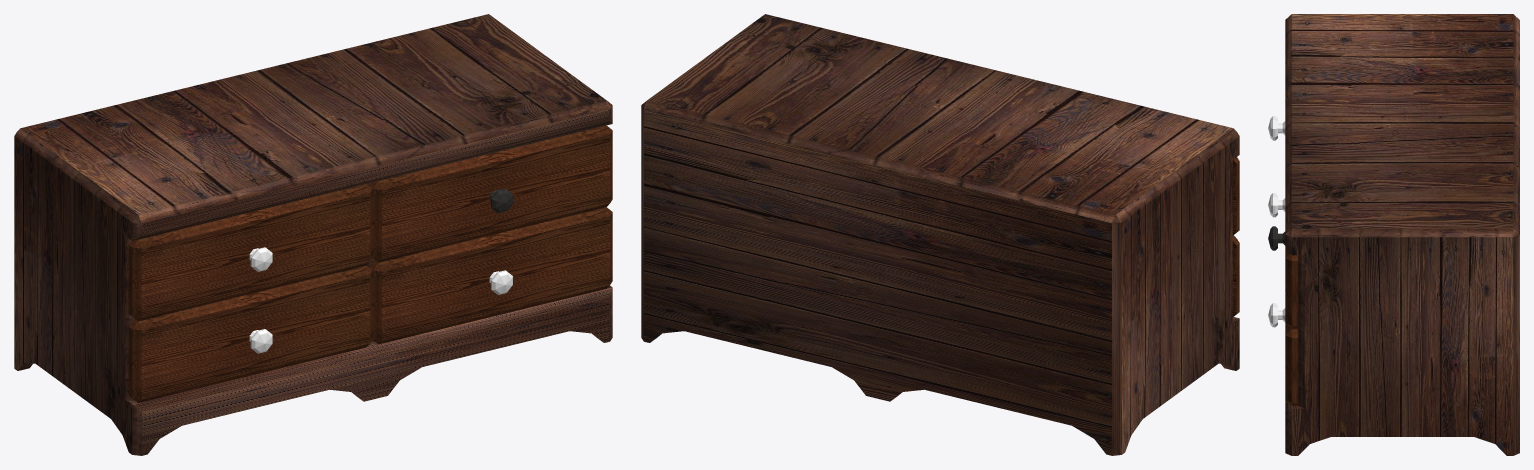
File: dresser_double.glb
3 views of the same model, side by side, from view 1: azimuth 30°, elevation 25°; view 2: azimuth 150°, elevation 25°; view 3: azimuth 270°, elevation 25° (orthographic). The views are drawn at different scales.
Parts seen in each view (by area): view 1: object4.004, object3.005, object5.001, object2.005, object1.006; view 2: object4.004, object3.005, object5.001; view 3: object4.004, object2.005, object1.006, object5.001, object3.005.
Part boxes in pixels (bbox=[...]): object4.004: bbox=[14, 14, 612, 455]; object3.005: bbox=[128, 266, 372, 402]; object5.001: bbox=[128, 184, 372, 321]; object2.005: bbox=[369, 207, 612, 344]; object1.006: bbox=[369, 125, 612, 262]; object4.004: bbox=[641, 14, 1239, 455]; object3.005: bbox=[1232, 235, 1239, 317]; object5.001: bbox=[1232, 157, 1239, 235]; object4.004: bbox=[1285, 14, 1519, 455]; object2.005: bbox=[1268, 303, 1298, 405]; object1.006: bbox=[1268, 226, 1298, 329]; object5.001: bbox=[1268, 116, 1285, 140]; object3.005: bbox=[1268, 193, 1285, 217].
Size of the model in its own units: 2 by 0.95 by 0.9656.
4 materials, 3 textured.
